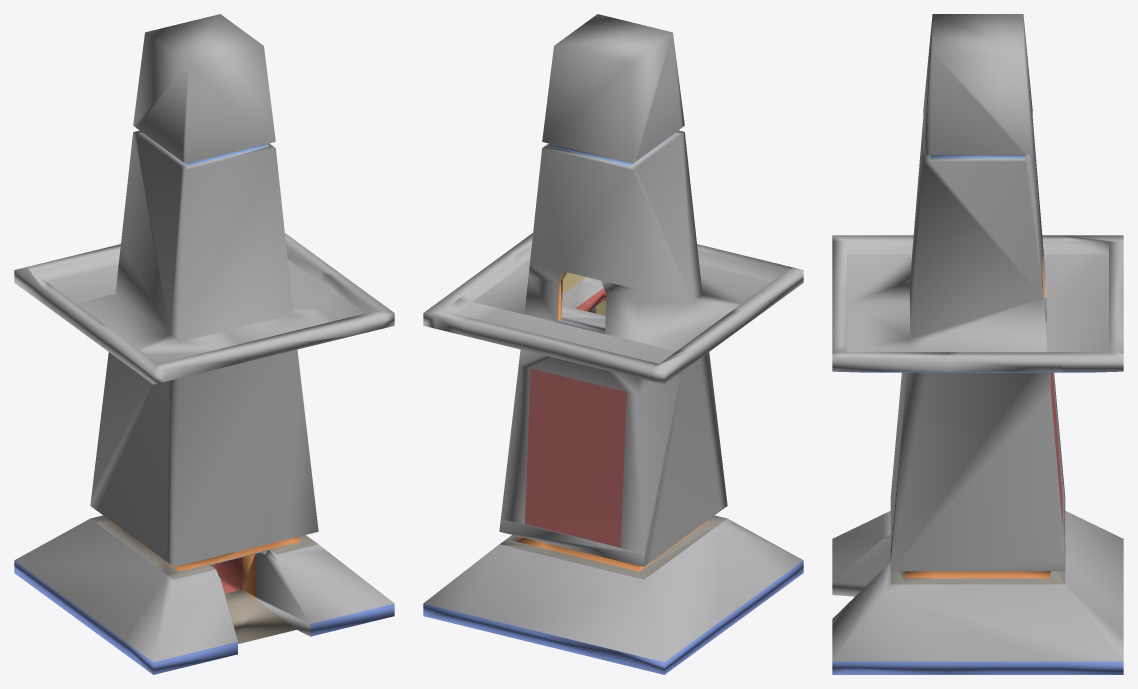
Rendered from betower2.glb.
3 renders of one model, left to right at view 1: azimuth 30°, elevation 25°; view 2: azimuth 150°, elevation 25°; view 3: azimuth 270°, elevation 25°, orthographic. The views are drawn at different scales.
Parts seen in each view (by area): view 1: betower2; view 2: betower2; view 3: betower2.
Part boxes in pixels (x1,y1,x2,y2): betower2: (14,14,394,674); betower2: (423,14,803,674); betower2: (832,14,1123,674).
Bounding box in the file's own units: 20 × 44 × 20.
